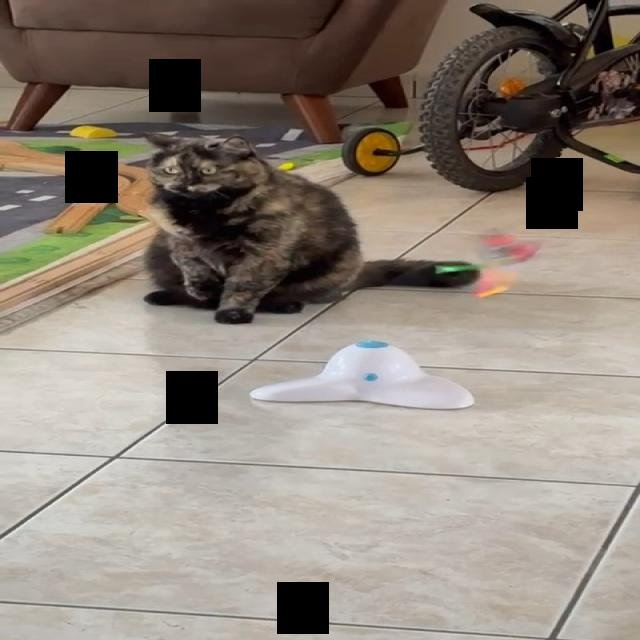authorized: (139, 131, 480, 324)
